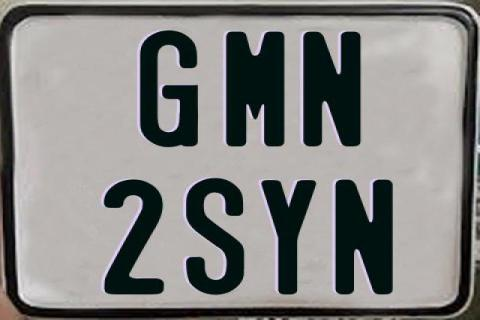0: (102, 178, 164, 296)
G: (140, 29, 202, 145)
M: (223, 29, 284, 149)
N: (332, 177, 394, 296), (303, 30, 365, 146)
S: (184, 175, 242, 293)
Y: (258, 179, 315, 296)
